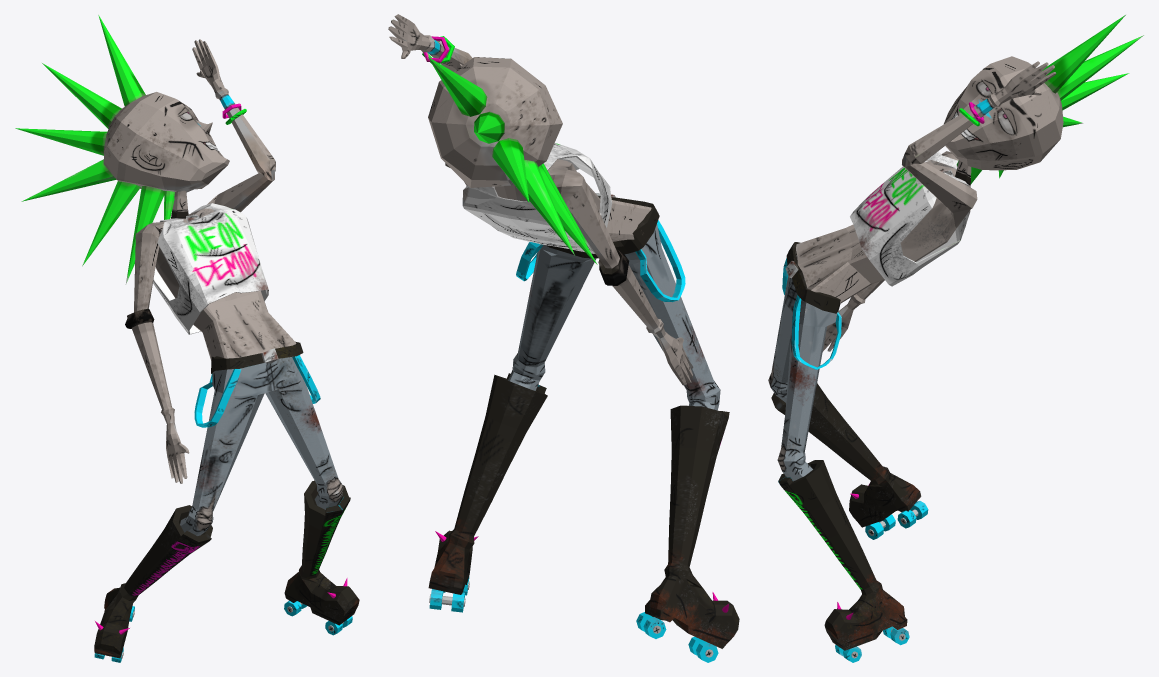
The model's file is punkAnimation_000107.obj.
3 renders of one model, left to right at view 1: azimuth 30°, elevation 25°; view 2: azimuth 150°, elevation 25°; view 3: azimuth 270°, elevation 25°, orthographic. The views are drawn at different scales.
Parts seen in each view (by area): view 1: Cube.004_Cube.003; view 2: Cube.004_Cube.003; view 3: Cube.004_Cube.003.
Boxes of the visible parts, left/top/right/bottom form: Cube.004_Cube.003: left=15, top=15, right=359, bottom=662; Cube.004_Cube.003: left=388, top=14, right=739, bottom=662; Cube.004_Cube.003: left=768, top=15, right=1143, bottom=662.
Bounding box in the file's own units: 2.9 × 6.06 × 3.52.
